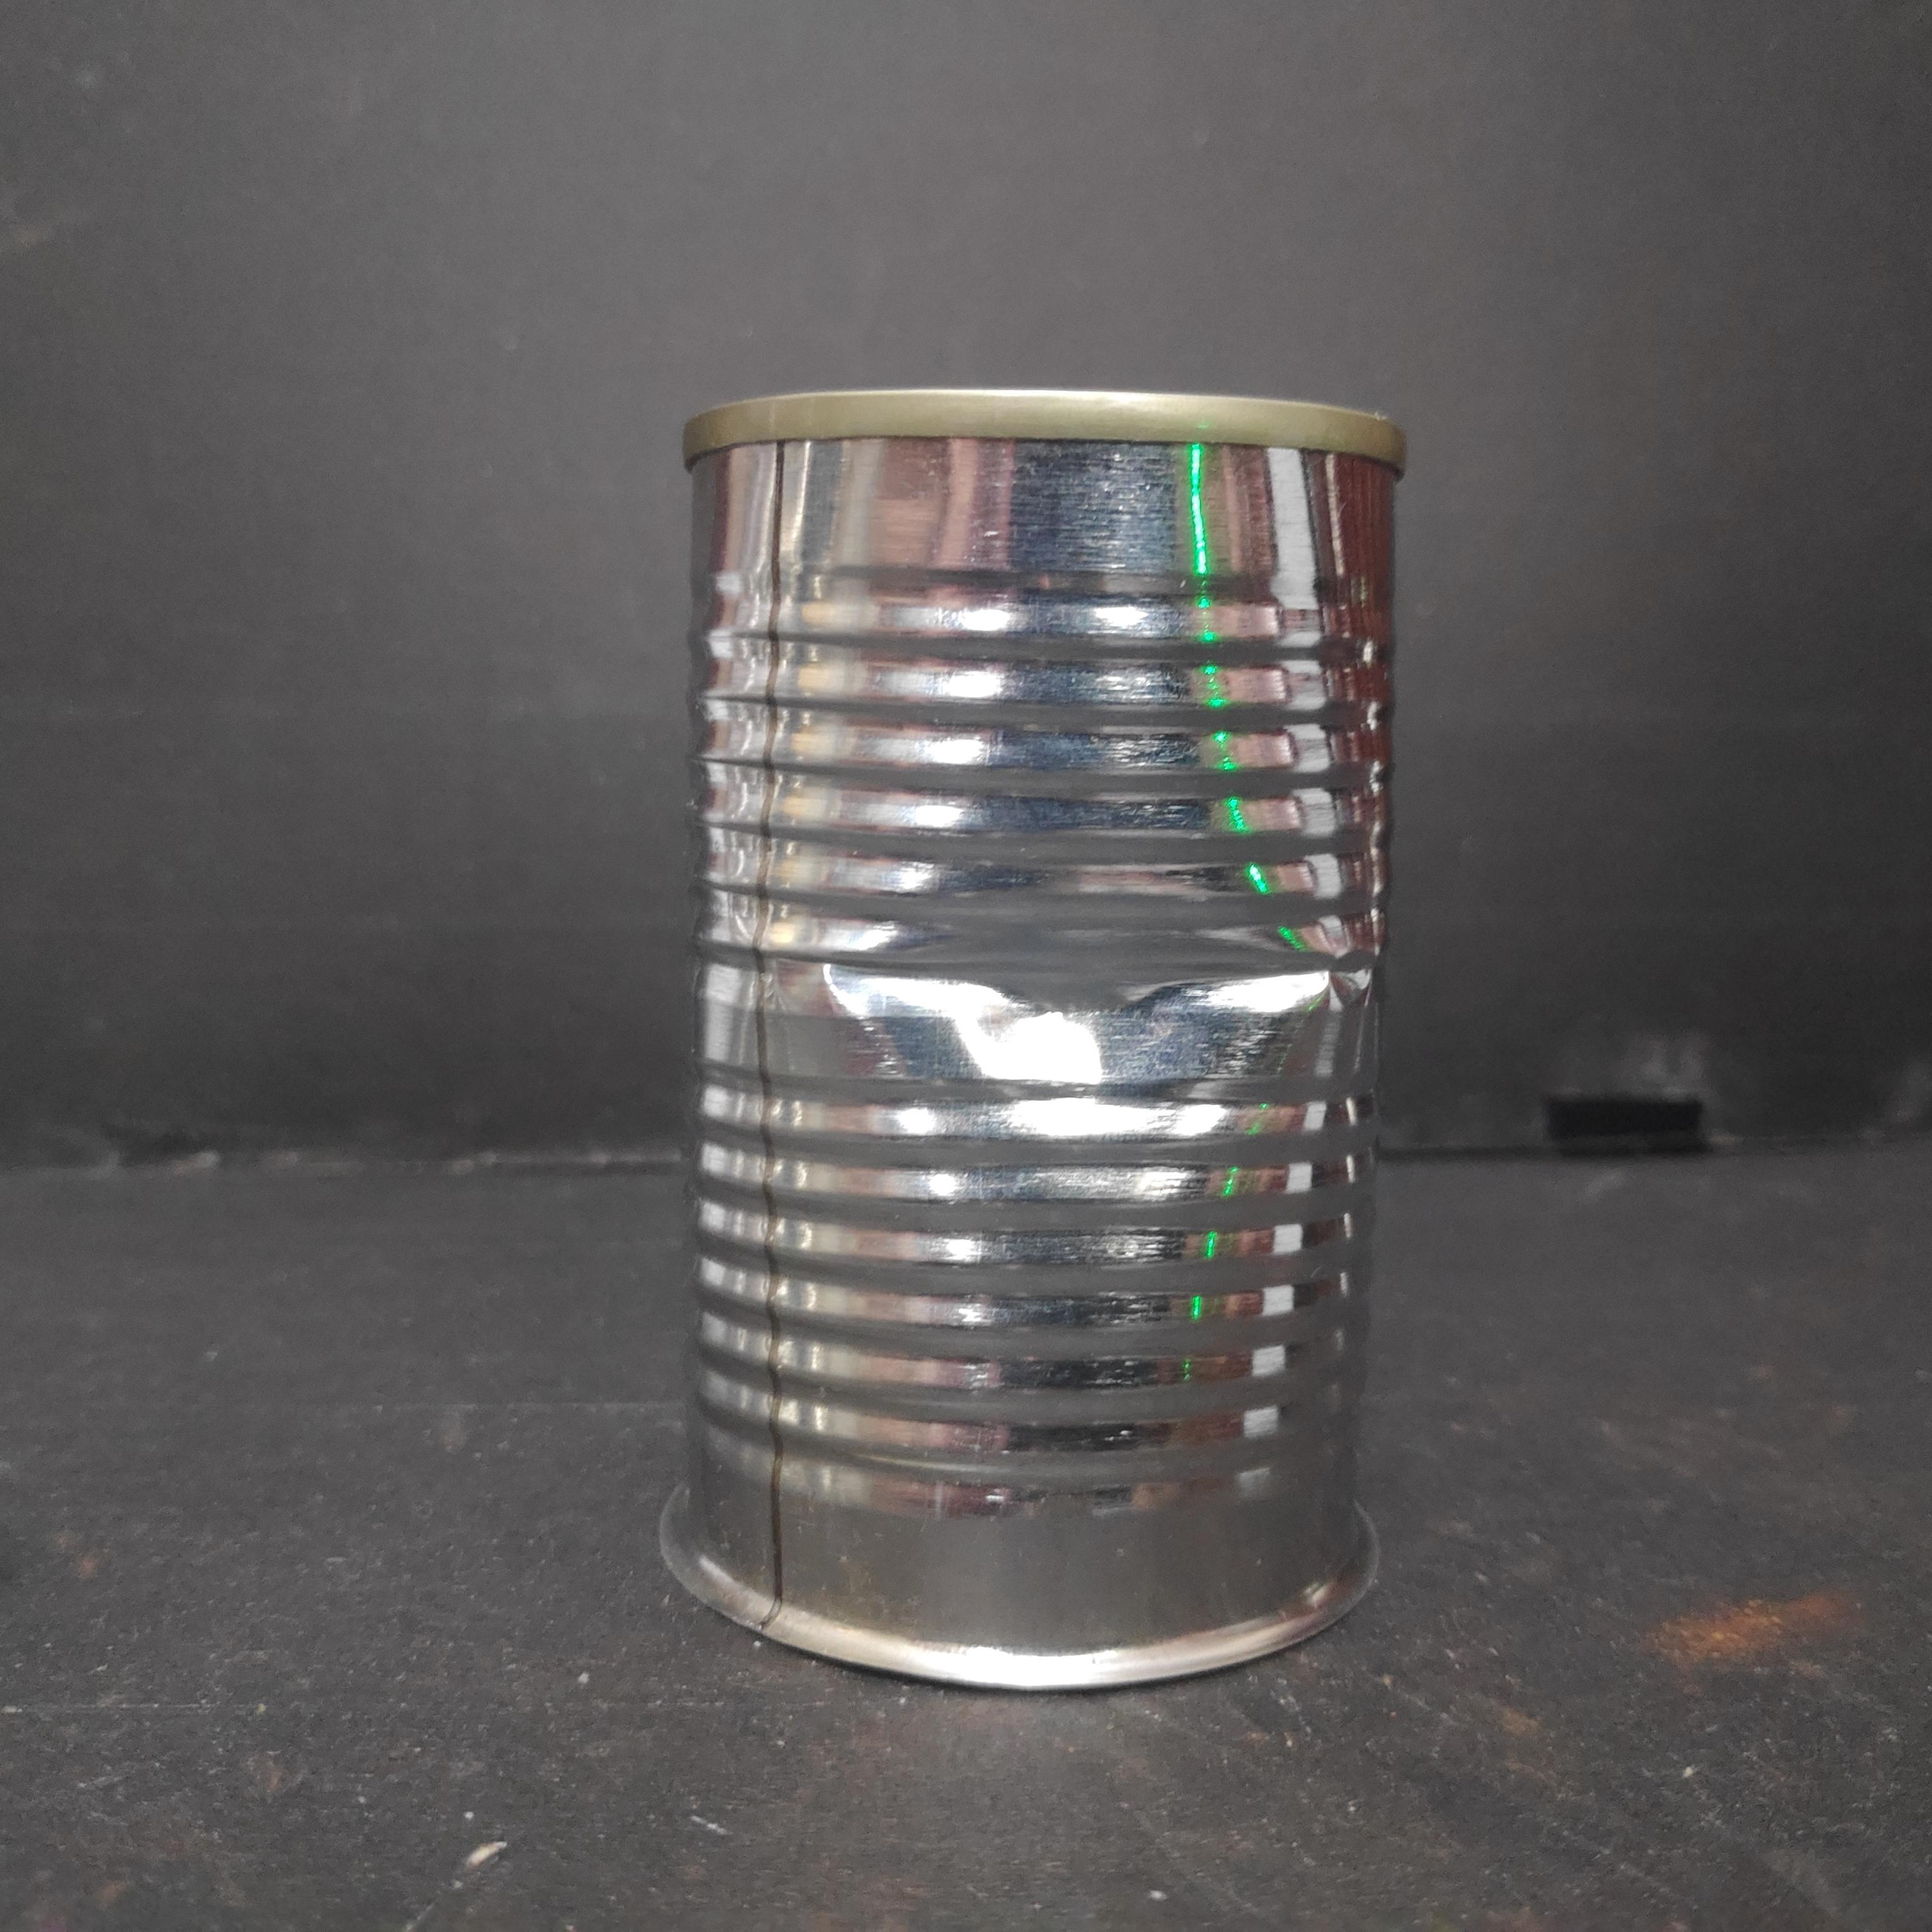Minor Defect: (666, 374, 1416, 1701)
